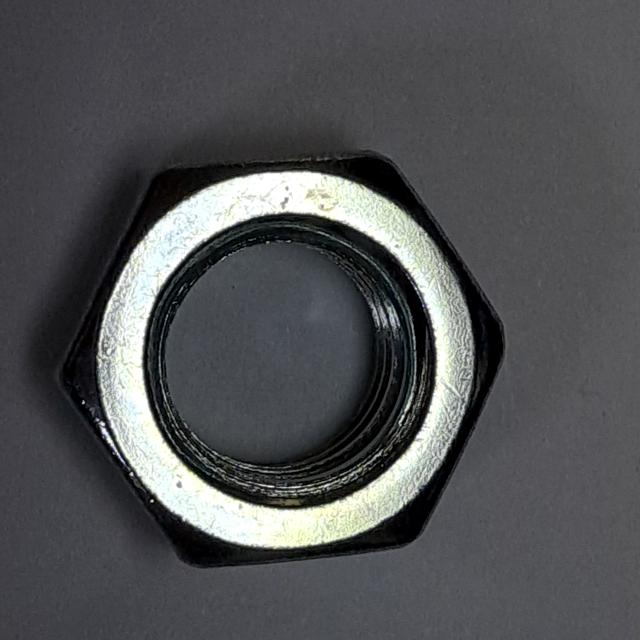Excellent: (40, 136, 524, 586)
